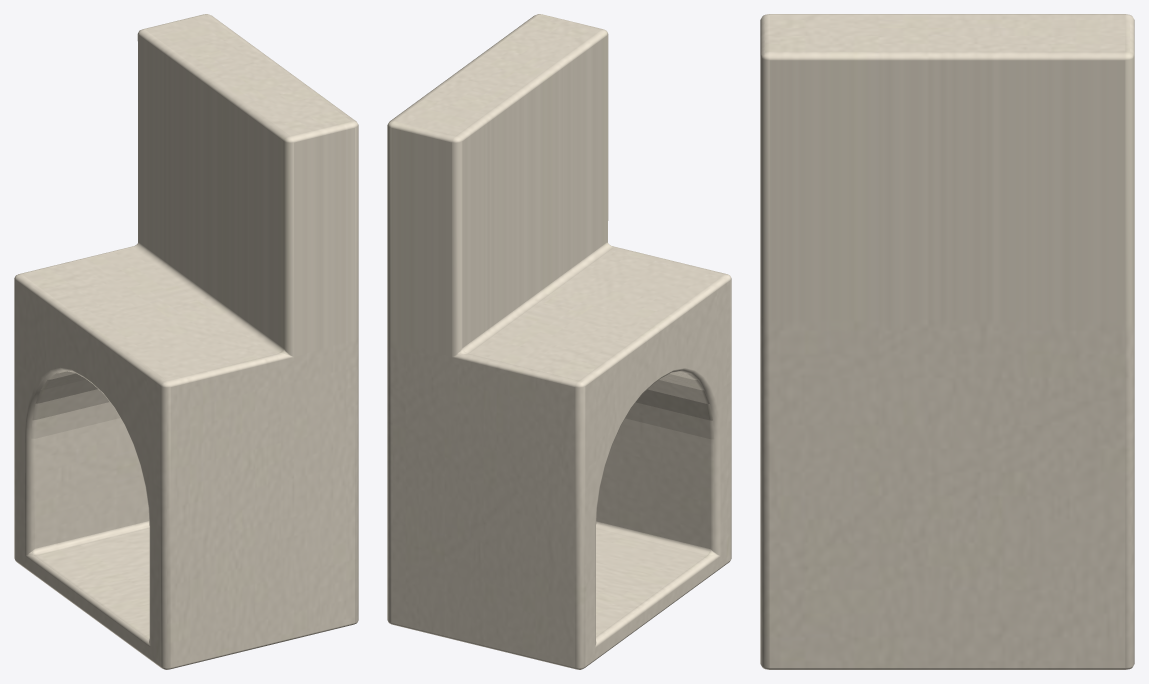
The model's file is Stove.fbx.
The picture shows the model from 3 angles, left to right: view 1: azimuth 30°, elevation 25°; view 2: azimuth 150°, elevation 25°; view 3: azimuth 270°, elevation 25°; orthographic projection. The views are drawn at different scales.
Parts seen in each view (by area): view 1: witch's house.003; view 2: witch's house.003; view 3: witch's house.003.
Part boxes in pixels (x1,y1,x2,y2): witch's house.003: [14, 14, 358, 669]; witch's house.003: [387, 14, 731, 669]; witch's house.003: [760, 14, 1134, 669].
Size of the model in its own units: 105 by 255 by 140.
Materials: 1 (1 with a texture image).
